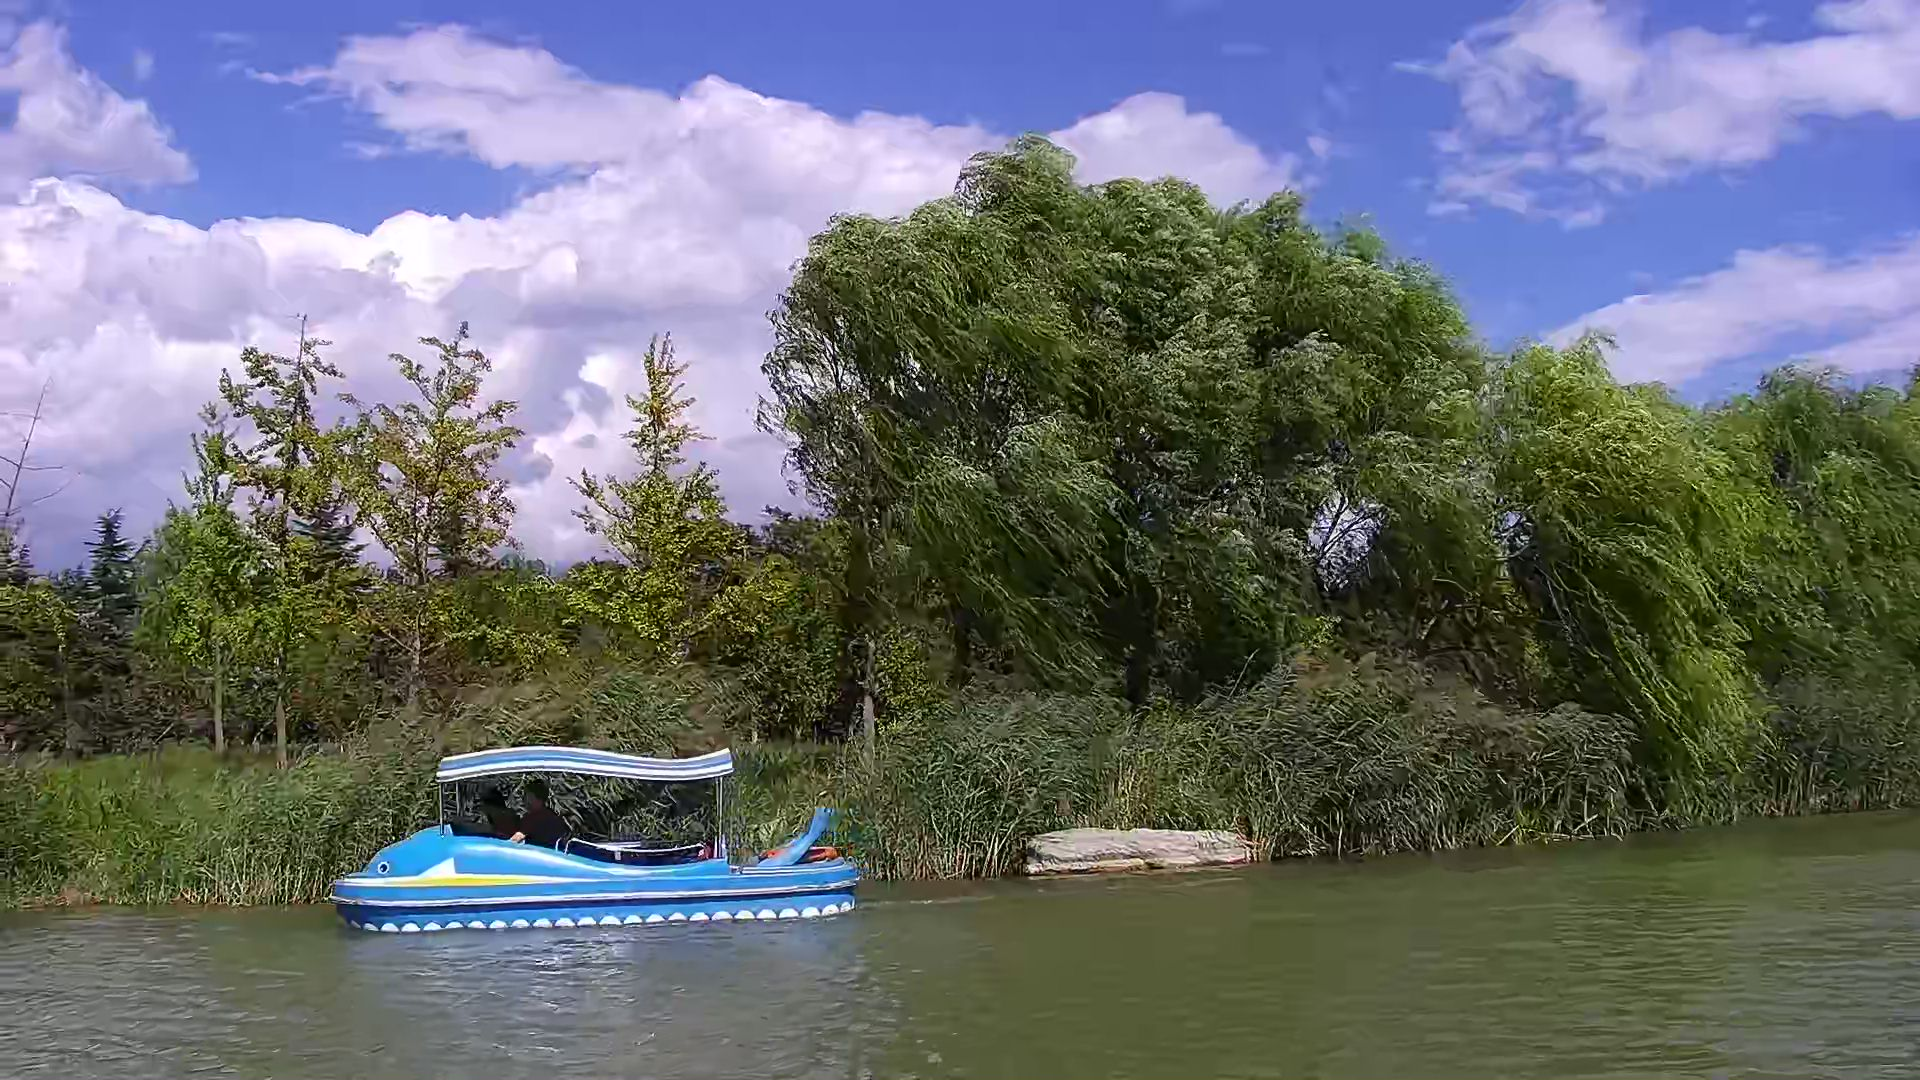boat: (324, 749, 858, 935)
person: (510, 780, 572, 855)
rock: (1019, 827, 1254, 882)
